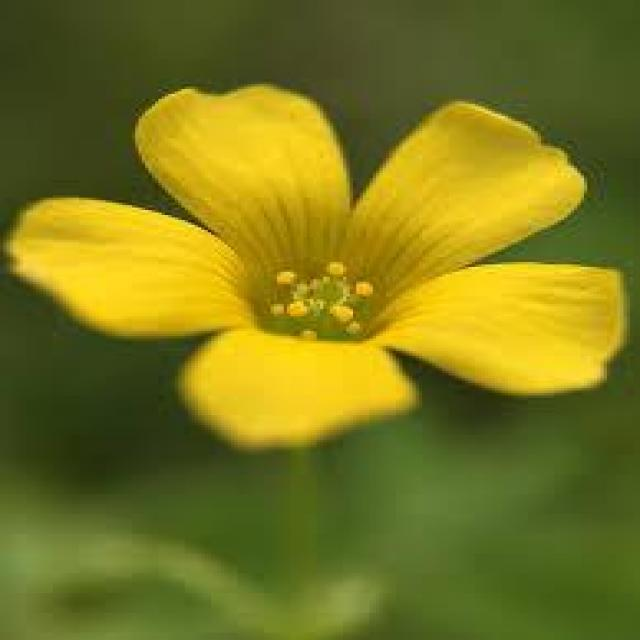organic waste: (26, 79, 624, 418)
